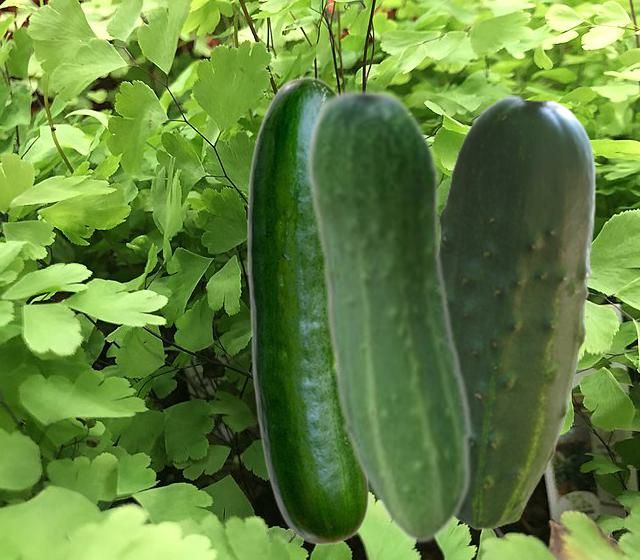cucumber: (306, 86, 473, 543), (441, 95, 595, 529), (246, 76, 368, 544)
